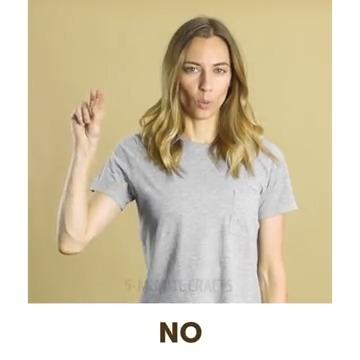No: (59, 76, 118, 176)
